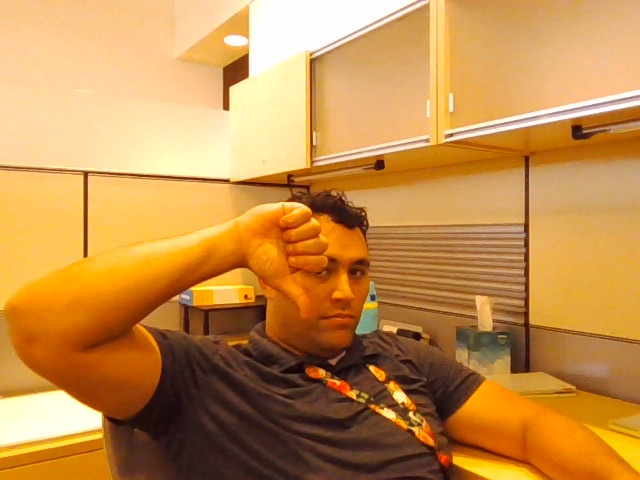ThumbsDown: (242, 200, 328, 319)
